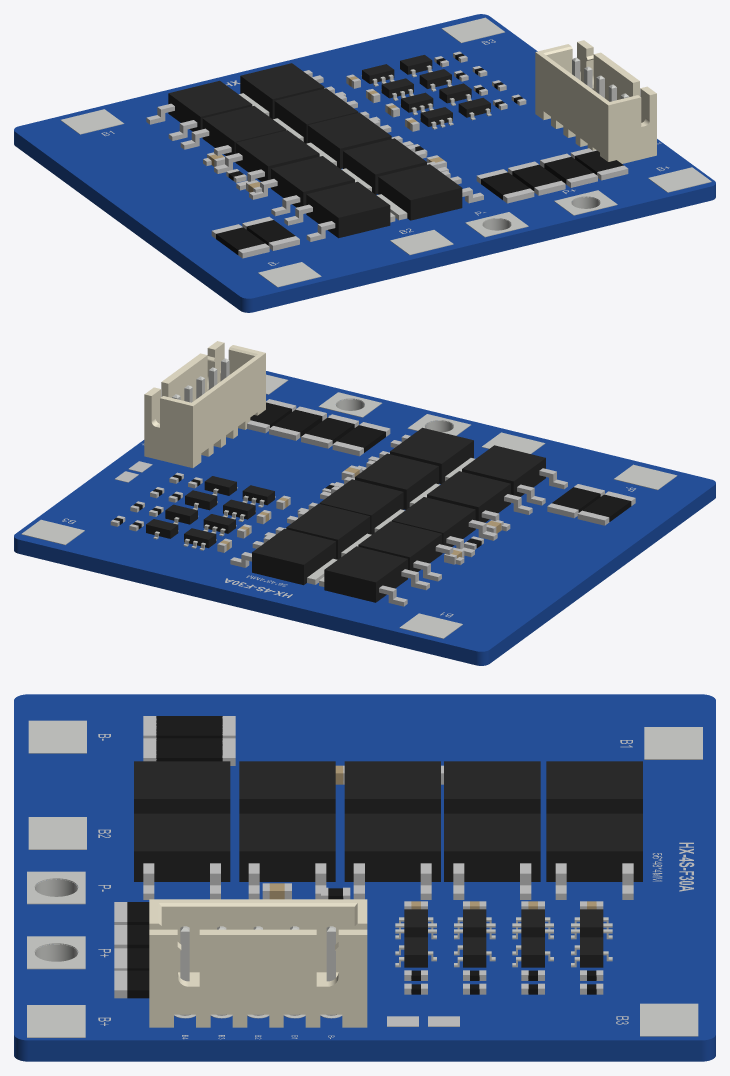
The model's file is 4s-bms-board.glb.
3 views of the same model, one above another, from view 1: azimuth 30°, elevation 25°; view 2: azimuth 150°, elevation 25°; view 3: azimuth 270°, elevation 25° (orthographic). The views are drawn at different scales.
Visible parts, largest first — view 1: pcb, conn_balance, body_8, body_9, body_5, body_7, body_4, body_6, body_1, body, body_3, body_2 (+19 smaller); view 2: pcb, conn_balance, body, body_1, body_7, body_9, body_6, body_8, body_3, body_2, body_5, body_4 (+17 smaller); view 3: pcb, conn_balance, body_1, body_7, body_3, body_5, body_9, body, body_2, body_4, body_6, body_8 (+30 smaller).
Boxes of the visible parts, <box> form: pcb: <box>14,14,715,312</box>; conn_balance: <box>535,40,656,163</box>; body_8: <box>306,181,390,238</box>; body_9: <box>378,164,462,220</box>; body_5: <box>307,112,391,168</box>; body_7: <box>343,138,426,194</box>; body_4: <box>235,130,319,181</box>; body_6: <box>271,156,354,207</box>; body_1: <box>240,63,324,119</box>; body: <box>168,80,252,131</box>; body_3: <box>274,88,358,143</box>; body_2: <box>202,106,286,162</box>; pcb: <box>14,371,715,665</box>; conn_balance: <box>144,341,265,467</box>; body: <box>324,546,407,602</box>; body_1: <box>252,528,335,585</box>; body_7: <box>355,453,438,509</box>; body_9: <box>390,427,473,483</box>; body_6: <box>427,471,510,522</box>; body_8: <box>462,445,545,496</box>; body_3: <box>286,503,370,559</box>; body_2: <box>358,521,442,571</box>; body_5: <box>319,479,403,534</box>; body_4: <box>391,497,475,553</box>; pcb: <box>14,694,715,1061</box>; conn_balance: <box>149,899,367,1027</box>; body_1: <box>546,813,642,881</box>; body_7: <box>239,813,335,881</box>; body_3: <box>444,813,540,881</box>; body_5: <box>344,813,440,881</box>; body_9: <box>134,813,230,881</box>; body: <box>546,761,642,813</box>; body_2: <box>444,761,540,813</box>; body_4: <box>344,761,440,813</box>; body_6: <box>239,761,335,813</box>; body_8: <box>134,761,230,813</box>.
Bounding box in the file's own units: 0.056 × 0.0104 × 0.048.
